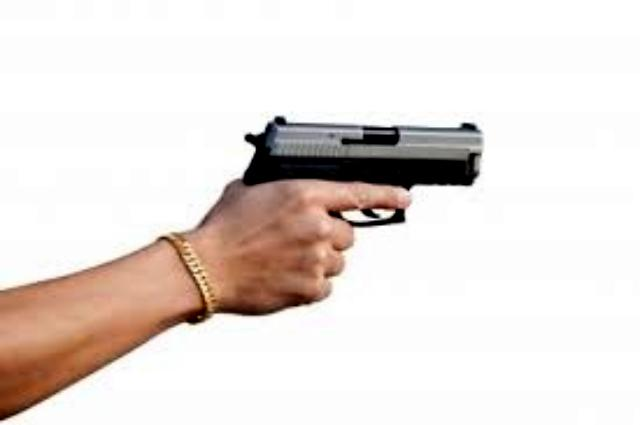pistol: (222, 111, 484, 306)
